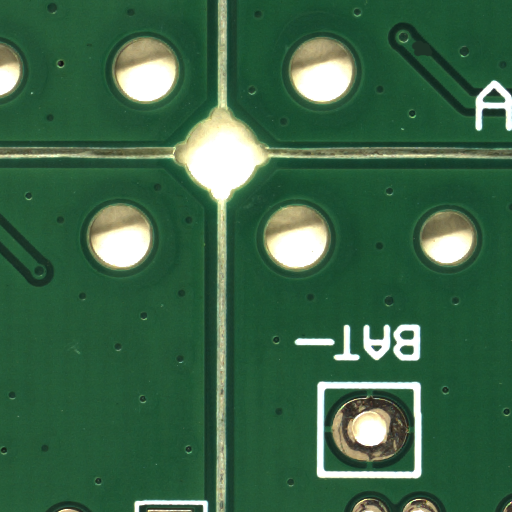Mouse_bite: (423, 49, 444, 64)
